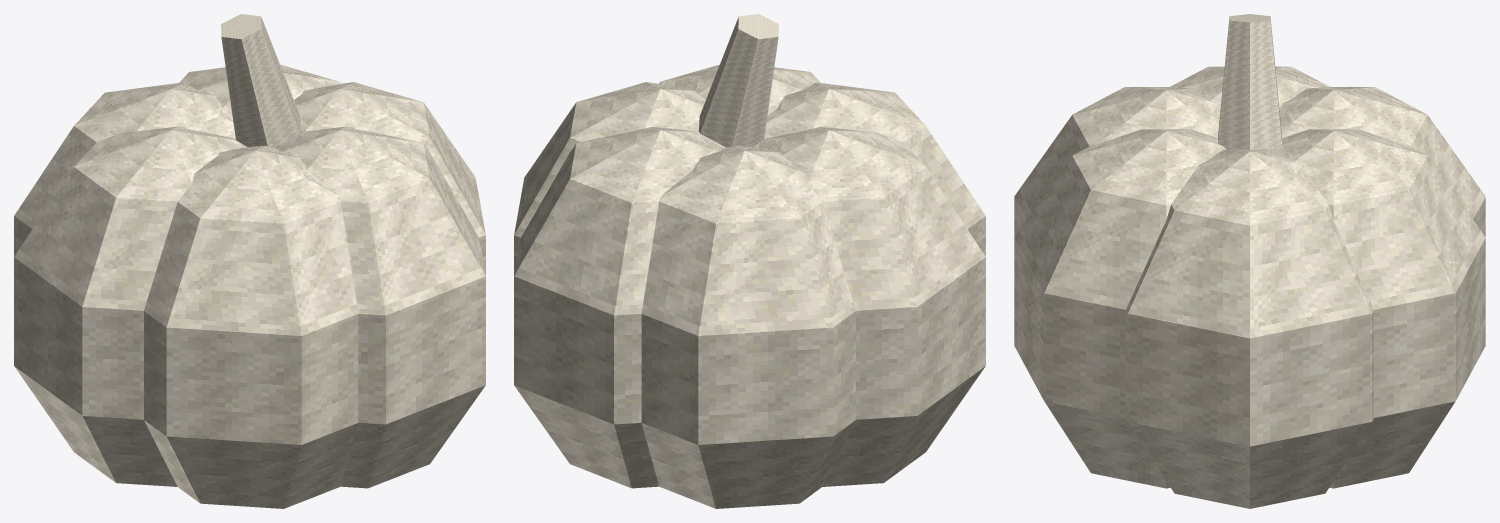
The model's file is alho.glb.
3 views of the same model, side by side, from view 1: azimuth 30°, elevation 25°; view 2: azimuth 150°, elevation 25°; view 3: azimuth 270°, elevation 25° (orthographic).
Visible parts, largest first — view 1: alho; view 2: alho; view 3: alho.
Boxes of the visible parts, left/top/right/bottom form: alho: left=14, top=14, right=485, bottom=508; alho: left=514, top=14, right=985, bottom=508; alho: left=1014, top=14, right=1485, bottom=508.
Bounding box in the file's own units: 0.4566 × 0.4536 × 0.4396.
1 material, 1 textured.
